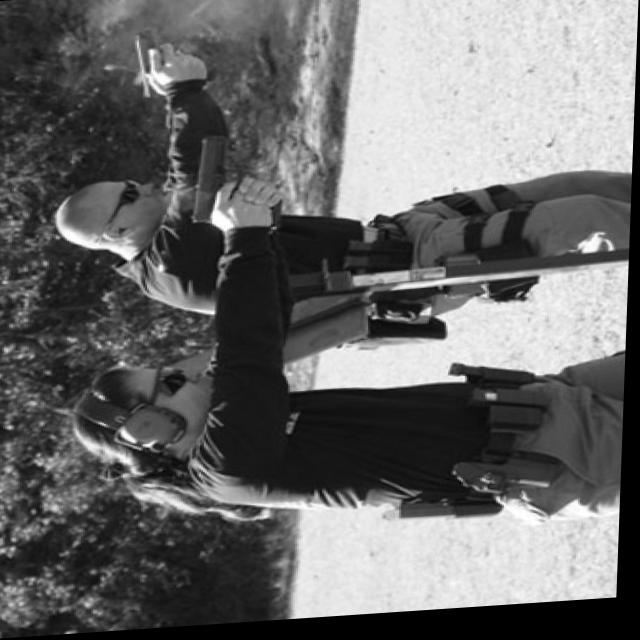handgun: (191, 131, 289, 238), (124, 26, 218, 99)
